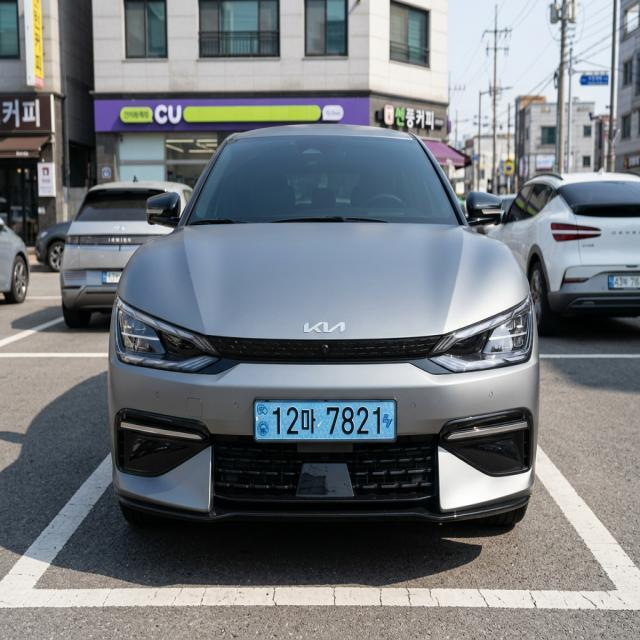car: (231, 394, 415, 452)
carev: (249, 394, 273, 446), (380, 396, 397, 444)
